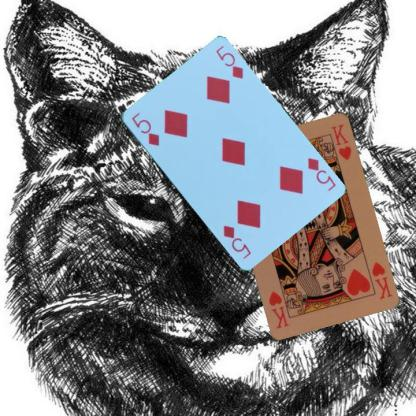5d: (304, 155, 337, 192), (128, 110, 160, 147)
Kh: (369, 259, 393, 300)
